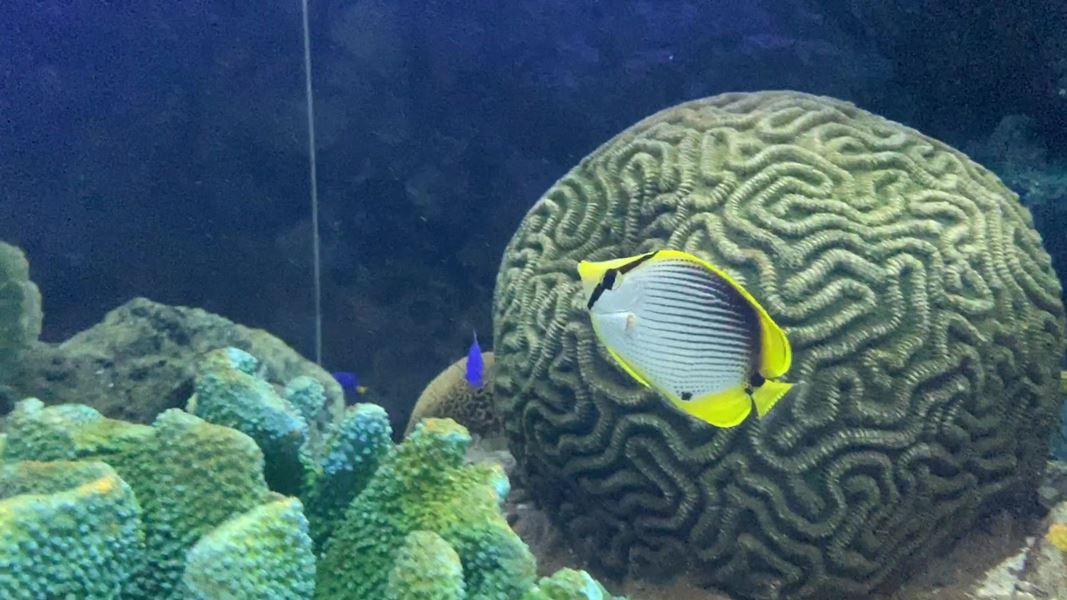Black-backed butterflyfish: (564, 237, 826, 451)
